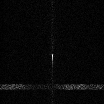wifi: (1, 84, 104, 89)
